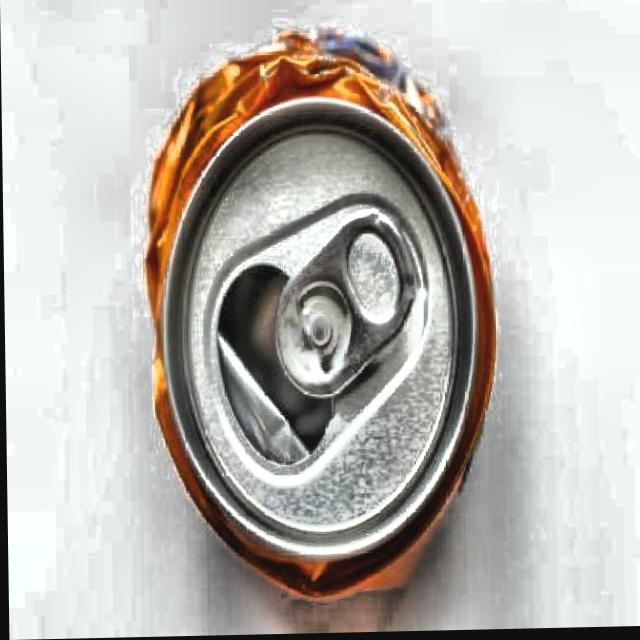can: (132, 22, 502, 613)
